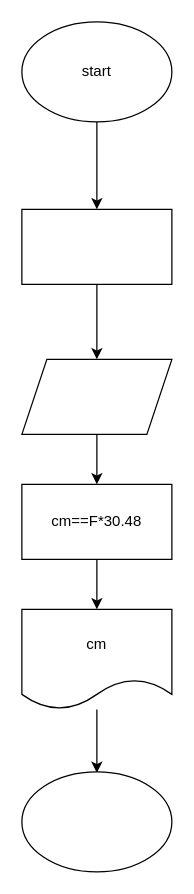
Some shapes in this 194 by 894 pixel diagram are drawn without their labels. Each missing label, with the centre of its shape:
F'i giriniz: point 96,396
feet==F santimetre==cm: point 96,246
